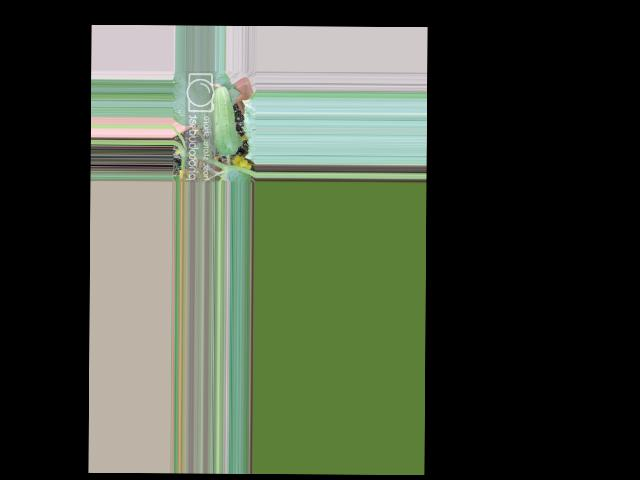cucumber: (210, 85, 238, 154)
